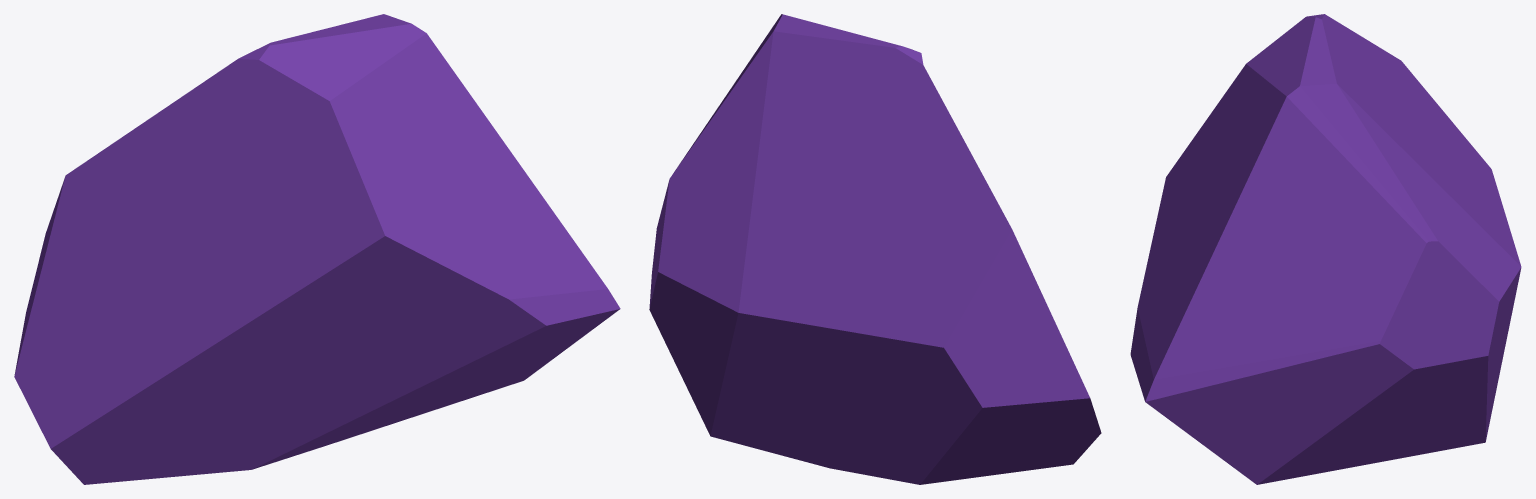
Rendered from rock3.fbx.
The picture shows the model from 3 angles, left to right: view 1: azimuth 30°, elevation 25°; view 2: azimuth 150°, elevation 25°; view 3: azimuth 270°, elevation 25°; orthographic projection. The views are drawn at different scales.
Parts seen in each view (by area): view 1: Cube_004; view 2: Cube_004; view 3: Cube_004.
Part boxes in pixels (x1,y1,x2,y2): Cube_004: (14, 14, 620, 484); Cube_004: (649, 14, 1101, 484); Cube_004: (1130, 14, 1521, 484).
Bounding box in the file's own units: 1.33 × 1.02 × 0.933.
